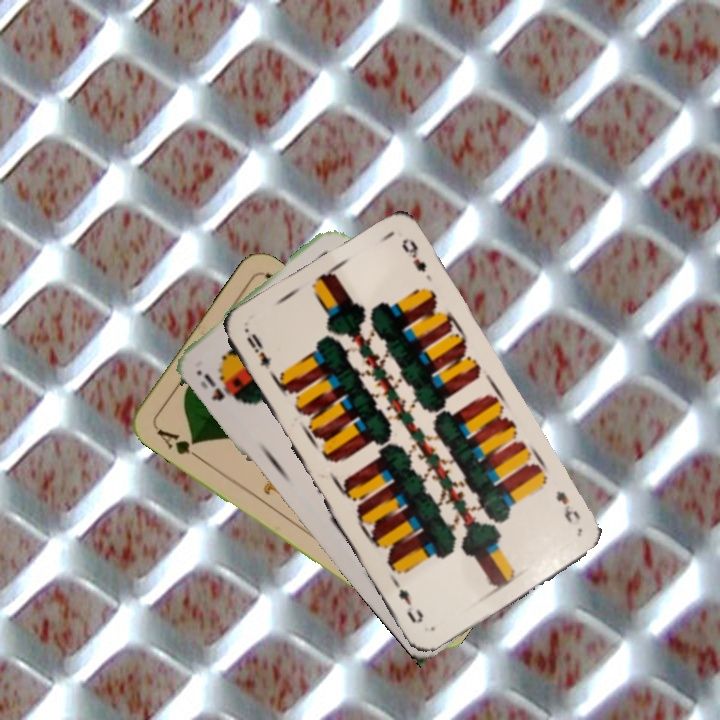E9: (242, 329, 274, 372), (552, 487, 583, 526)
GA: (153, 424, 204, 463)
SO: (196, 369, 228, 404)
